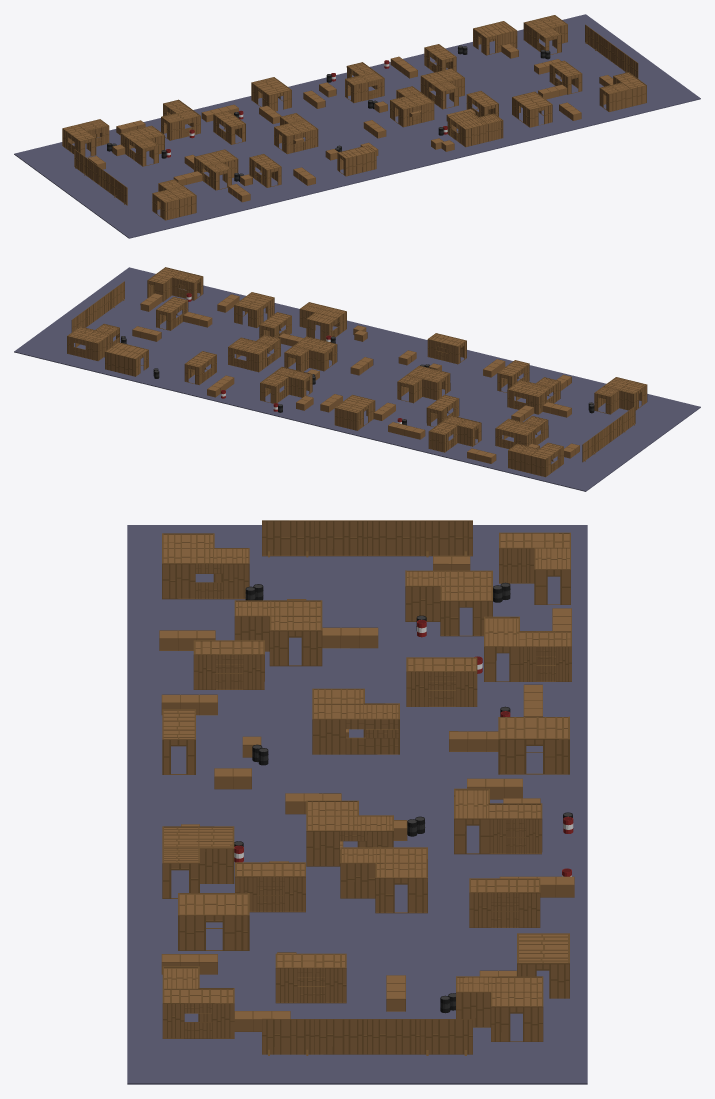
The model's file is map.obj.
The picture shows the model from 3 angles, top to bottom: view 1: azimuth 30°, elevation 25°; view 2: azimuth 150°, elevation 25°; view 3: azimuth 270°, elevation 25°; orthographic projection. The views are drawn at different scales.
Visible parts, largest first — view 1: Cube_New_Material_0, Plane_034_Material_153_0, Plane_034_Material_155_0, Plane_034_Material_154_0, Plane_034_Material_155_0.001, Plane_034_Material_189_0; view 2: Cube_New_Material_0, Plane_034_Material_153_0, Plane_034_Material_155_0, Plane_034_Material_154_0, Plane_034_Material_155_0.001; view 3: Cube_New_Material_0, Plane_034_Material_153_0, Plane_034_Material_155_0, Plane_034_Material_154_0, Plane_034_Material_155_0.001, Plane_034_Material_189_0.
Boxes of the visible parts, box(x1,y1,x2,y2) form: Cube_New_Material_0: box(14, 14, 700, 238); Plane_034_Material_153_0: box(62, 15, 645, 219); Plane_034_Material_155_0: box(62, 16, 643, 219); Plane_034_Material_154_0: box(62, 15, 646, 220); Plane_034_Material_155_0.001: box(252, 22, 645, 153); Plane_034_Material_189_0: box(107, 45, 550, 181); Cube_New_Material_0: box(14, 267, 700, 491); Plane_034_Material_153_0: box(67, 268, 646, 476); Plane_034_Material_155_0: box(69, 269, 646, 475); Plane_034_Material_154_0: box(67, 267, 647, 477); Plane_034_Material_155_0.001: box(68, 278, 444, 430); Cube_New_Material_0: box(127, 525, 587, 1084); Plane_034_Material_153_0: box(159, 521, 574, 1054); Plane_034_Material_155_0: box(162, 521, 571, 1055); Plane_034_Material_154_0: box(159, 520, 574, 1054); Plane_034_Material_155_0.001: box(163, 717, 569, 1038); Plane_034_Material_189_0: box(234, 582, 572, 1013).
Size of the model in its own units: 200 by 6.25 by 69.75.
